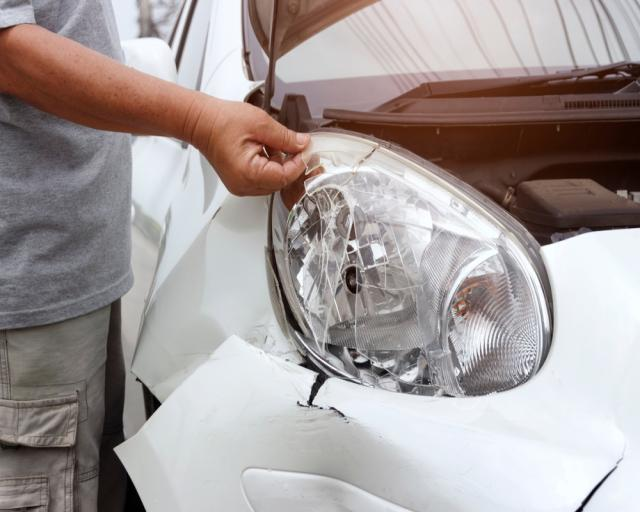crack: (573, 437, 626, 512), (296, 373, 347, 421)
dent: (194, 411, 442, 512)
lamp broken: (274, 136, 554, 395)
